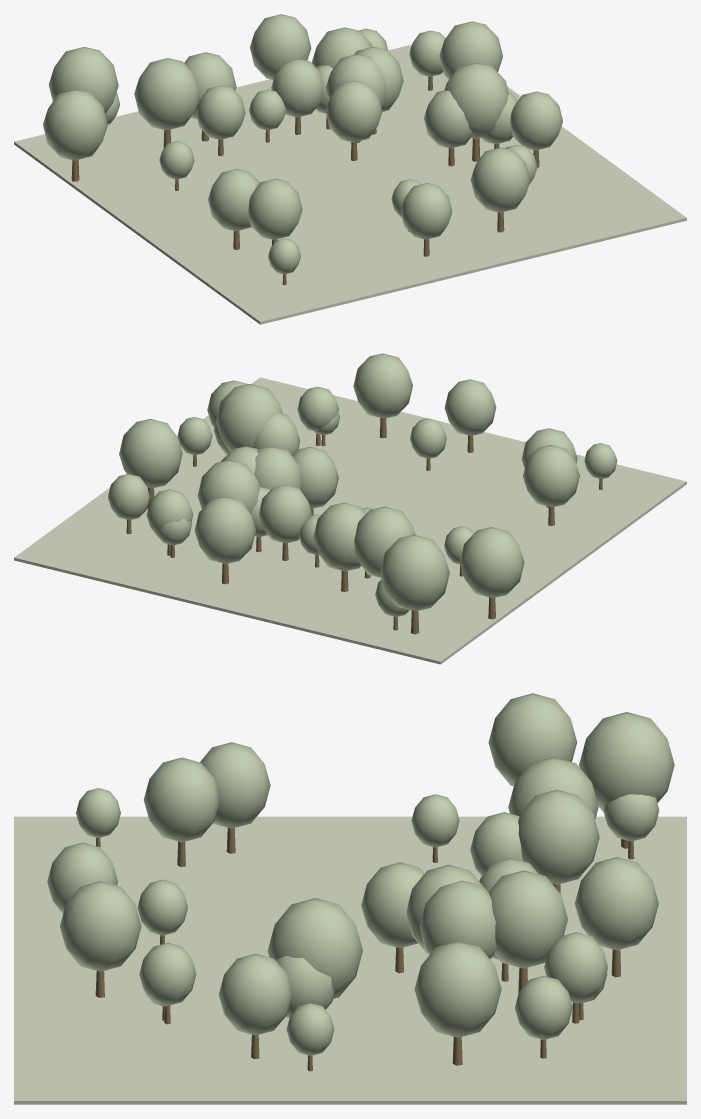
3 renders of one model, top to bottom at view 1: azimuth 30°, elevation 25°; view 2: azimuth 150°, elevation 25°; view 3: azimuth 270°, elevation 25°, orthographic. The views are drawn at different scales.
Visible parts, largest first — view 1: terrain, lod-near-0, lod-near-19, lod-near-23, lod-near-1, lod-near-5, lod-near-12, lod-near-29, lod-near-7, lod-near-3, lod-near-16, lod-near-20 (+14 smaller); view 2: terrain, lod-near-5, lod-near-19, lod-near-3, lod-near-12, lod-near-1, lod-near-23, lod-near-20, lod-near-6, lod-near-0, lod-near-11, lod-near-10 (+17 smaller); view 3: terrain, lod-near-5, lod-near-3, lod-near-12, lod-near-6, lod-near-25, lod-near-23, lod-near-1, lod-near-19, lod-near-7, lod-near-16, lod-near-30 (+16 smaller).
Part boxes in pixels (x1,y1,x2,y2): terrain: (14, 44, 686, 324); lod-near-0: (134, 58, 199, 130); lod-near-19: (43, 89, 107, 160); lod-near-23: (444, 63, 508, 138); lod-near-1: (470, 147, 530, 212); lod-near-5: (48, 47, 118, 113); lod-near-12: (250, 14, 311, 79); lod-near-29: (325, 80, 382, 142); lod-near-7: (248, 178, 302, 239); lod-near-3: (439, 21, 502, 79); lod-near-16: (510, 91, 562, 150); lod-near-20: (208, 169, 259, 230); terrain: (14, 377, 686, 664); lod-near-5: (380, 534, 449, 611); lod-near-19: (459, 527, 524, 597); lod-near-3: (119, 419, 182, 488); lod-near-12: (194, 496, 255, 563); lod-near-1: (353, 353, 412, 418); lod-near-23: (215, 384, 282, 451); lod-near-20: (523, 445, 579, 507); lod-near-6: (313, 502, 365, 571); lod-near-0: (354, 506, 415, 577); lod-near-11: (259, 485, 311, 543); lod-near-10: (444, 379, 496, 435); terrain: (14, 816, 686, 1104); lod-near-5: (579, 712, 674, 811); lod-near-3: (414, 941, 501, 1037); lod-near-12: (574, 857, 658, 950); lod-near-6: (518, 789, 599, 884); lod-near-25: (488, 870, 567, 968); lod-near-23: (267, 898, 362, 998); lod-near-1: (60, 881, 141, 971); lod-near-19: (488, 693, 577, 786); lod-near-7: (143, 757, 218, 842); lod-near-16: (218, 953, 292, 1035); lod-near-30: (419, 880, 496, 958).
Bounding box in the file's own units: 33.74 × 7.19 × 32.
